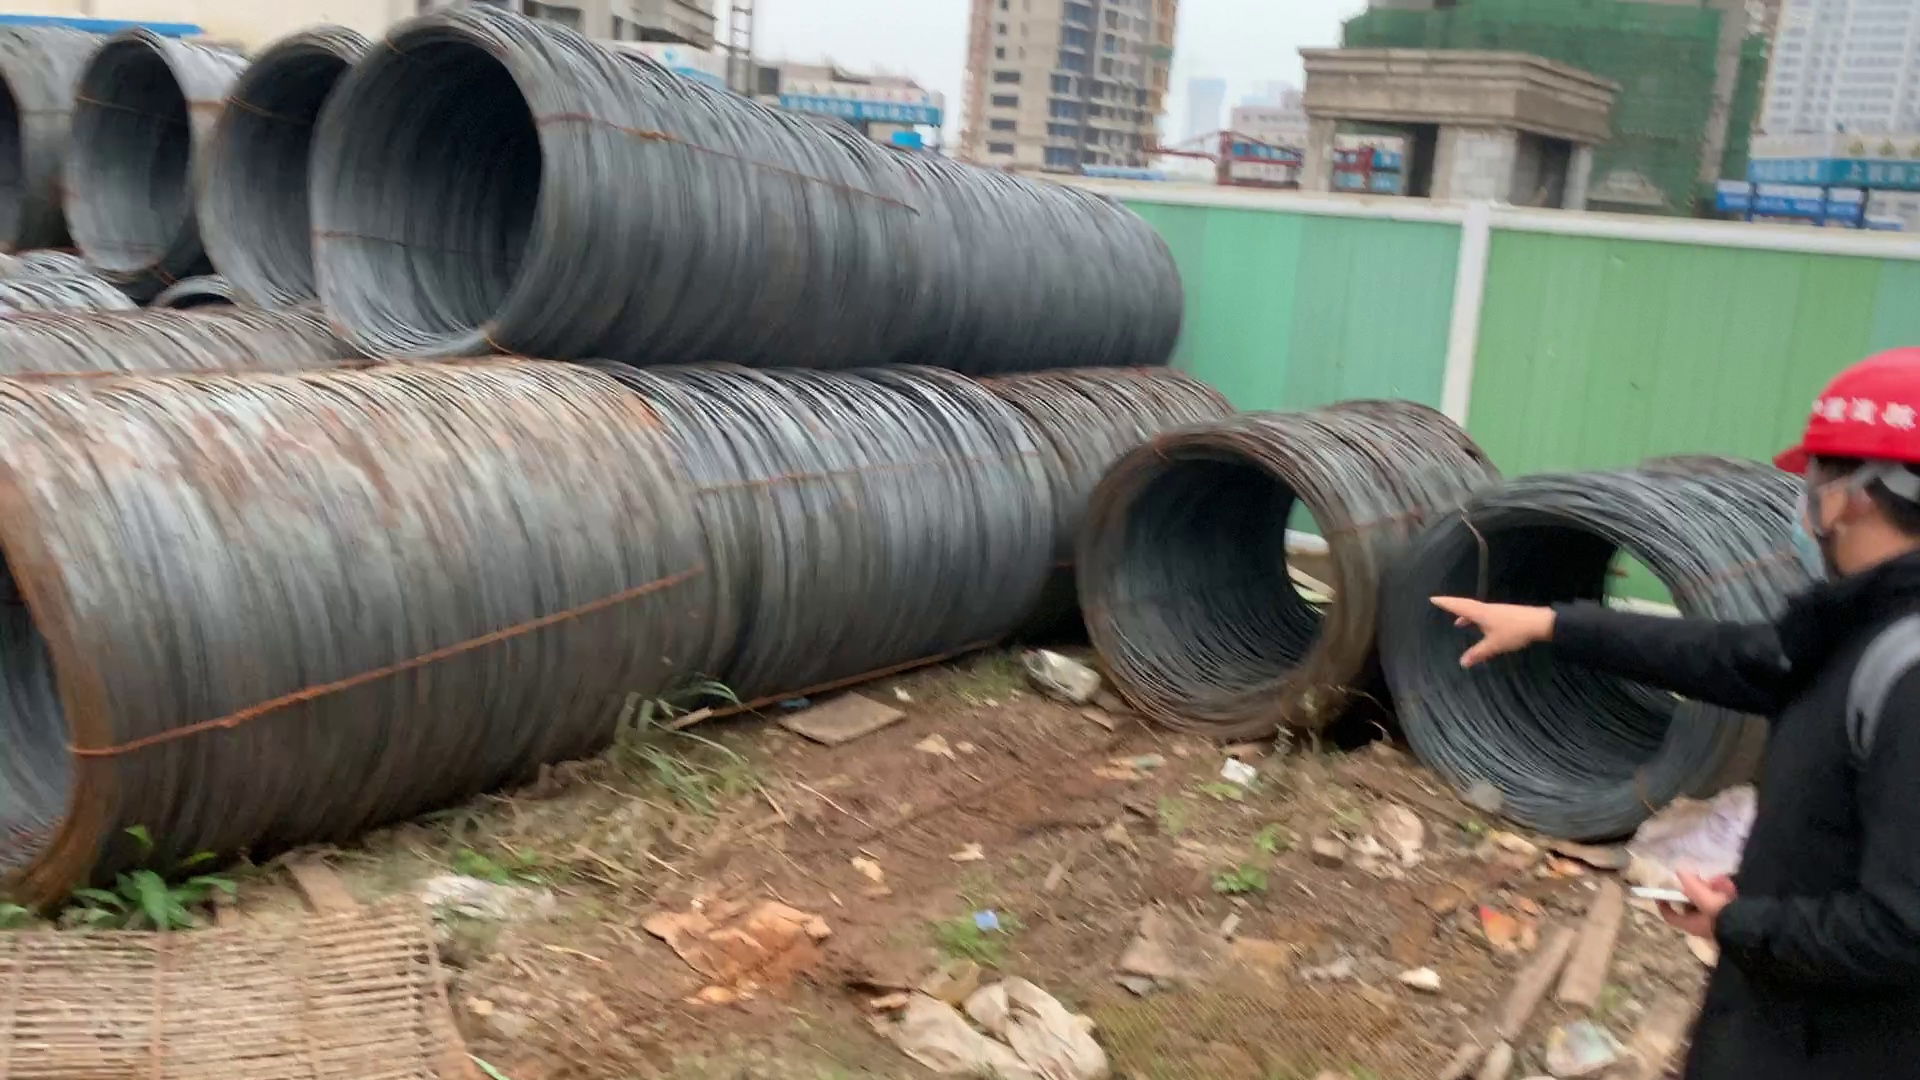coil: (1396, 477, 1735, 835), (295, 16, 578, 363), (1073, 433, 1371, 746), (1, 464, 117, 928), (190, 24, 371, 316), (82, 36, 204, 293), (1, 44, 49, 257)
